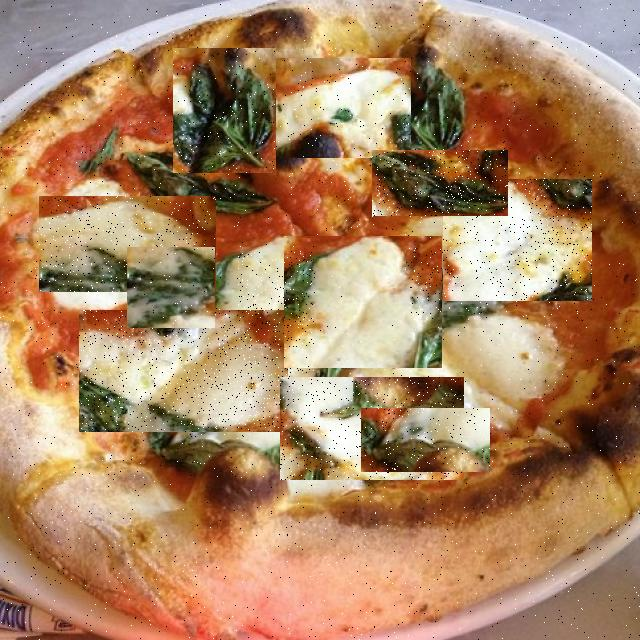Basil: (173, 48, 276, 173), (237, 251, 315, 389), (372, 150, 508, 216), (361, 408, 490, 472), (127, 247, 215, 328), (408, 248, 489, 320)
Cheese: (79, 310, 288, 432), (284, 236, 442, 368), (280, 377, 464, 480), (443, 179, 592, 301), (39, 196, 216, 292), (261, 58, 411, 158)
Pizza: (0, 0, 640, 640)
